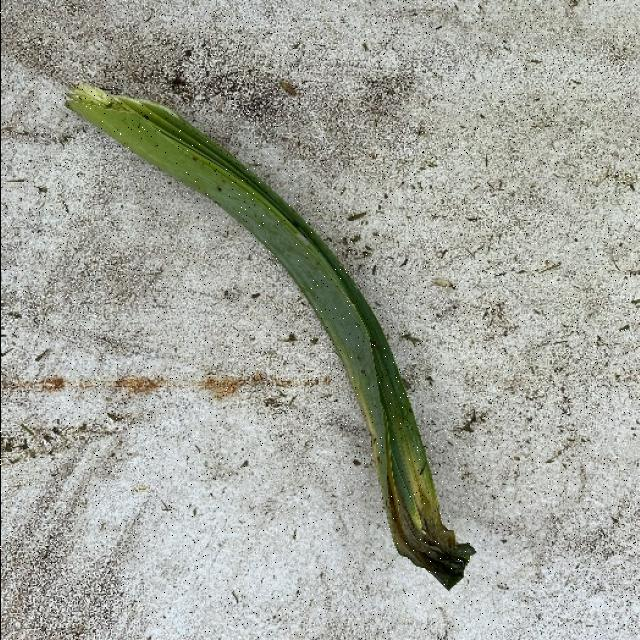organik: (66, 71, 482, 573)
